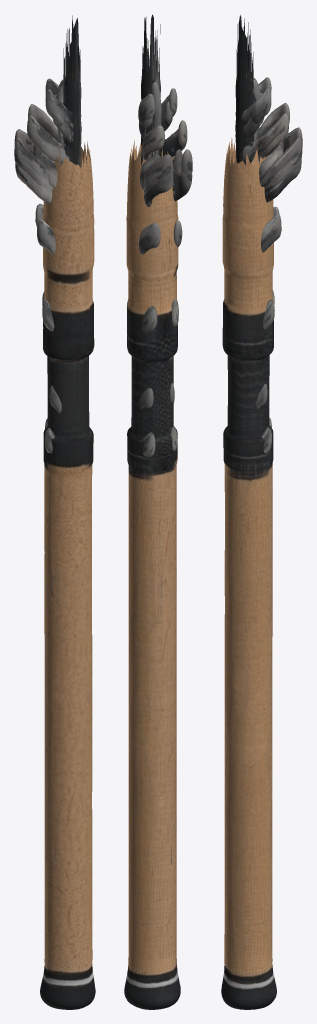
Rendered from meshy_rod2_player.glb.
3 views of the same model, side by side, from view 1: azimuth 90°, elevation 25°; view 2: azimuth 210°, elevation 25°; view 3: azimuth 270°, elevation 25° (orthographic).
Parts seen in each view (by area): view 1: Handle, Seg2, Seg0, Seg6, Seg1, Seg4, Seg3, Seg8, Seg7, Seg5; view 2: Handle, Seg0, Seg2, Seg1, Seg6, Seg4, Seg8, Seg5, Seg3, Seg7, Seg9; view 3: Handle, Seg2, Seg0, Seg6, Seg1, Seg4, Seg3, Seg8, Seg7, Seg5.
Part boxes in pixels (x1=…): Handle: x1=40, y1=141, x2=95, y2=1009; Seg2: x1=27, y1=77, x2=81, y2=165; Seg0: x1=14, y1=28, x2=81, y2=191; Seg6: x1=45, y1=61, x2=75, y2=453; Seg1: x1=15, y1=43, x2=81, y2=204; Seg4: x1=35, y1=33, x2=80, y2=254; Seg3: x1=33, y1=107, x2=81, y2=188; Seg8: x1=49, y1=73, x2=73, y2=413; Seg7: x1=70, y1=15, x2=78, y2=81; Seg5: x1=42, y1=68, x2=78, y2=331; Handle: x1=124, y1=140, x2=180, y2=1009; Seg0: x1=142, y1=16, x2=192, y2=190; Seg2: x1=140, y1=76, x2=187, y2=165; Seg1: x1=141, y1=30, x2=192, y2=207; Seg6: x1=138, y1=42, x2=177, y2=456; Seg4: x1=139, y1=30, x2=182, y2=254; Seg8: x1=139, y1=101, x2=174, y2=409; Seg5: x1=141, y1=64, x2=178, y2=332; Seg3: x1=140, y1=149, x2=182, y2=189; Seg7: x1=144, y1=14, x2=156, y2=80; Seg9: x1=151, y1=81, x2=161, y2=154; Handle: x1=221, y1=137, x2=276, y2=1009; Seg2: x1=235, y1=72, x2=289, y2=223; Seg0: x1=235, y1=22, x2=302, y2=362; Seg6: x1=238, y1=50, x2=271, y2=453; Seg1: x1=235, y1=41, x2=301, y2=202; Seg4: x1=236, y1=24, x2=281, y2=252; Seg3: x1=235, y1=105, x2=283, y2=186; Seg8: x1=243, y1=73, x2=267, y2=408; Seg7: x1=238, y1=15, x2=268, y2=219; Seg5: x1=247, y1=62, x2=274, y2=329.
Size of the model in its own units: 0.0347 by 0.6732 by 0.0503.
1 material, 1 textured.
